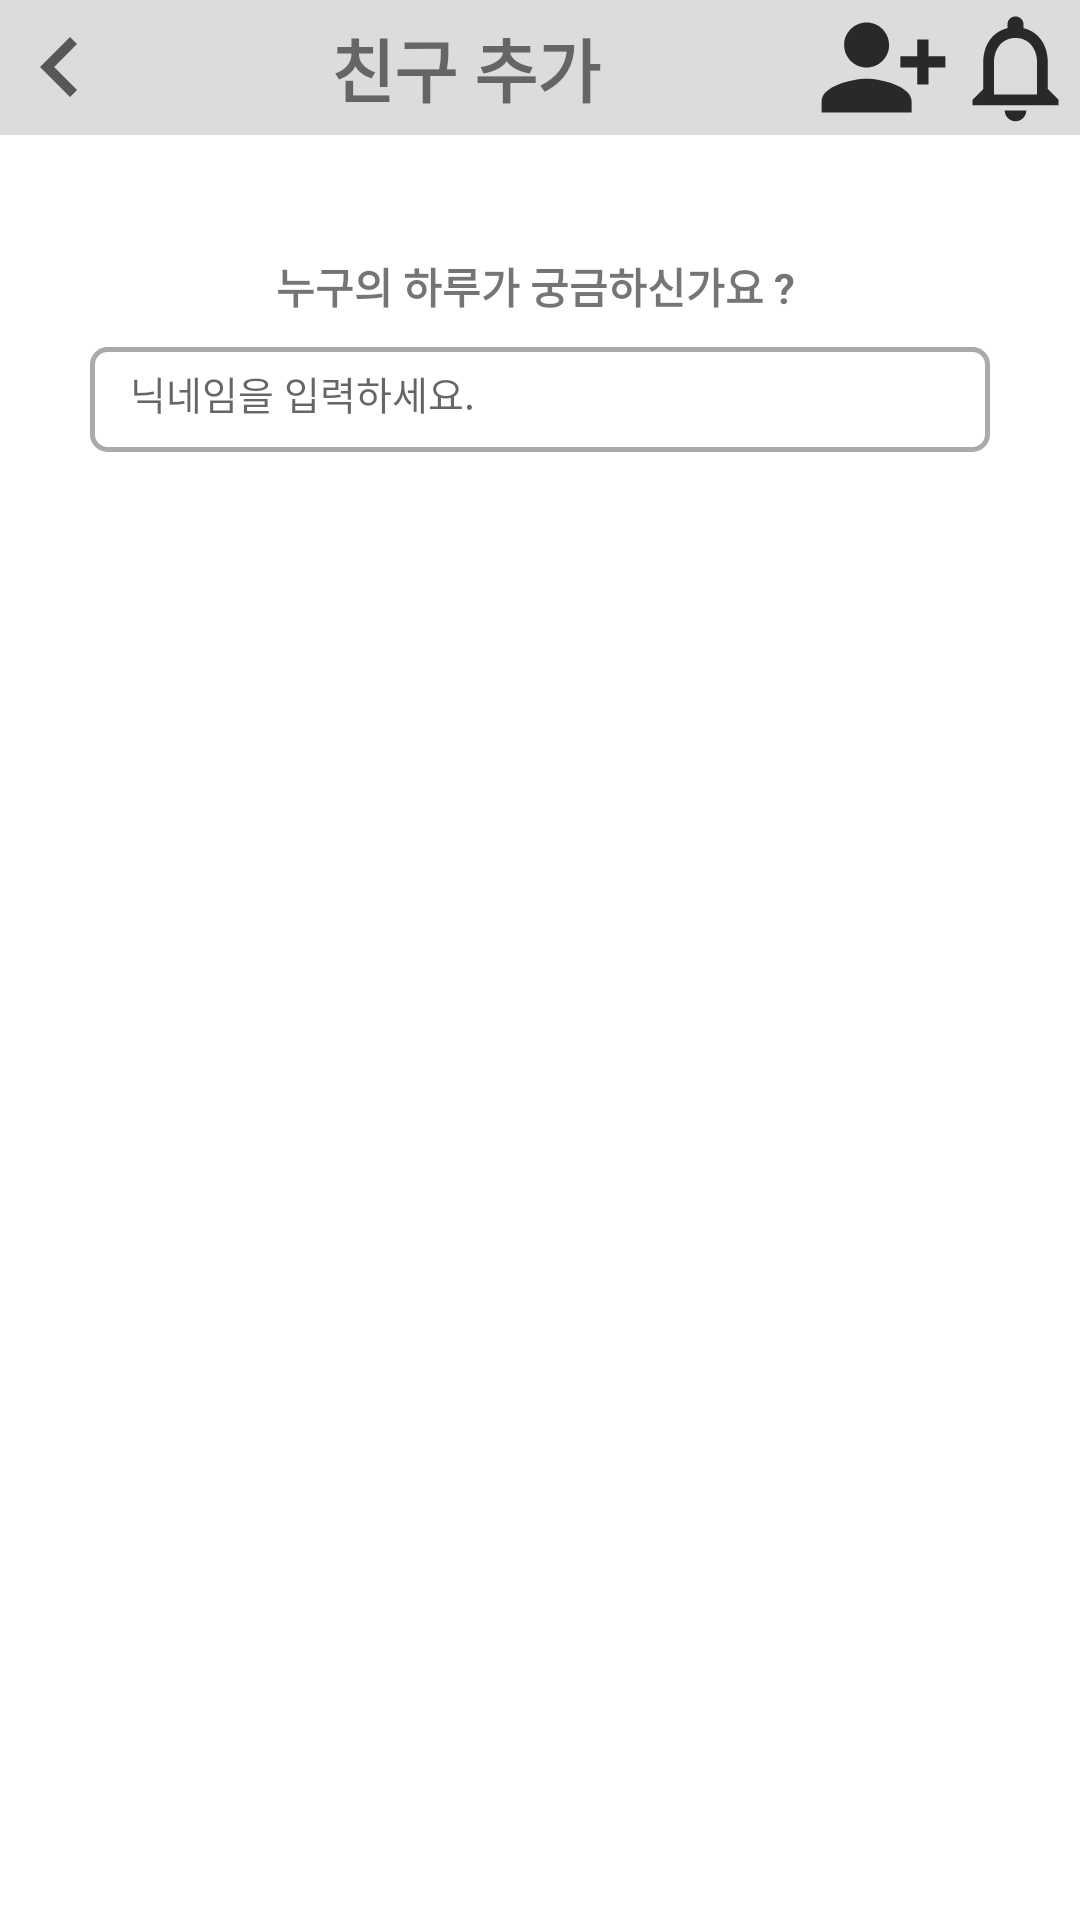

Screen size 1080×1920. Icon name, then its center in pixels as (x,y):
arrow: (58,67)
person add: (883,67)
